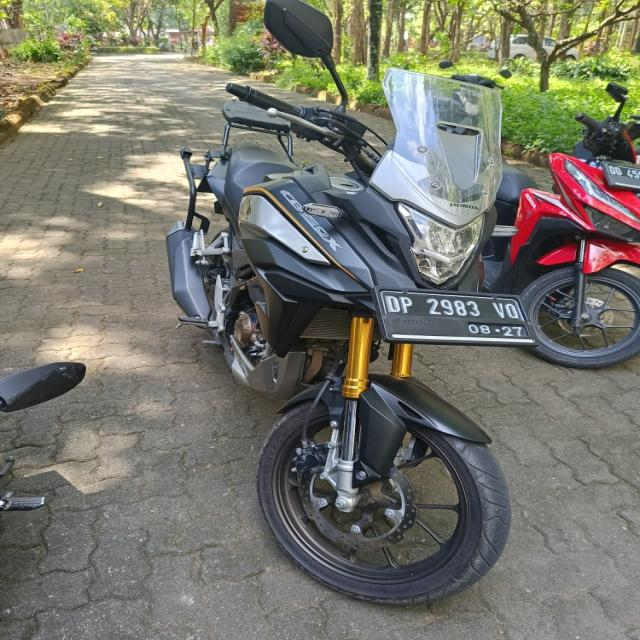plates: (376, 282, 534, 342)
